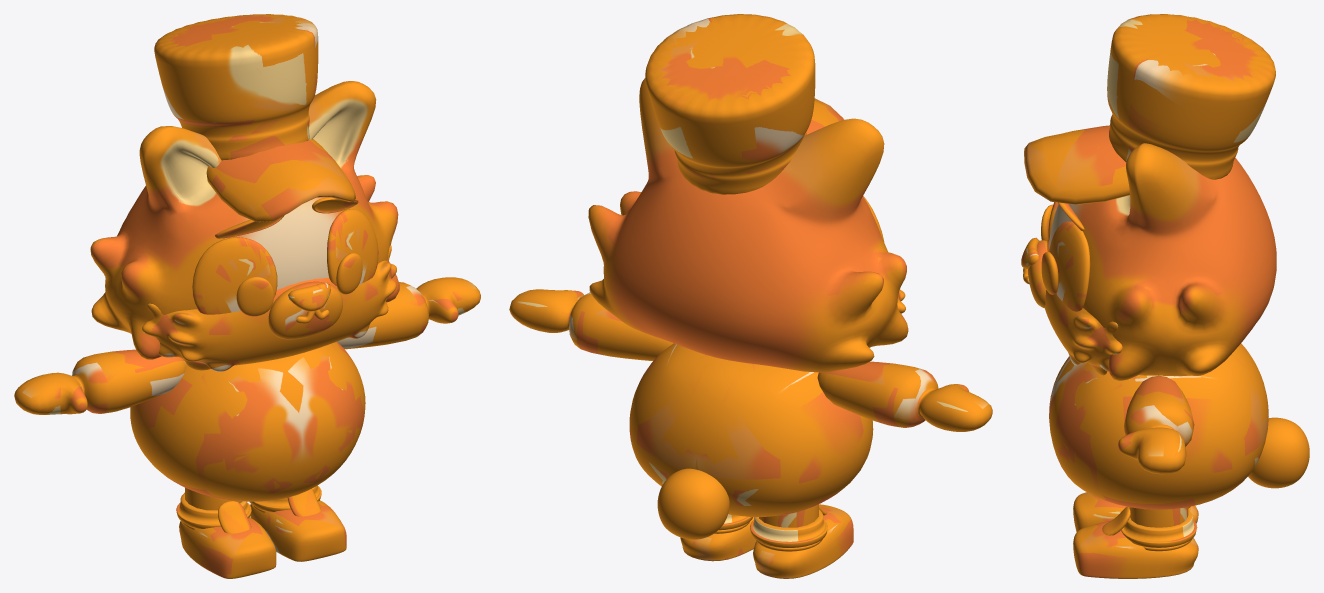
Rendered from CatTest.fbx.
3 renders of one model, left to right at view 1: azimuth 30°, elevation 25°; view 2: azimuth 150°, elevation 25°; view 3: azimuth 270°, elevation 25°, orthographic. The views are drawn at different scales.
Parts seen in each view (by area): view 1: Head, Body, Plane.006, Plane, Head.001, Cube, Plane.002, Body.001, Plane.003, Cylinder.001, Plane.005, Plane.004 (+1 smaller); view 2: Head, Body, Plane.006, Plane, Cube, Cube.001, Cylinder.001; view 3: Head, Plane.006, Body, Plane, Cube, Head.001, Cube.001, Plane.002, Cylinder.001, Plane.003, Body.001, Plane.005 (+1 smaller).
Boxes of the visible parts, x1=… form: Head: x1=90, y1=81, x2=399, y2=359; Body: x1=130, y1=341, x2=365, y2=501; Plane.006: x1=154, y1=14, x2=355, y2=222; Plane: x1=14, y1=277, x2=480, y2=510; Head.001: x1=142, y1=245, x2=396, y2=371; Cube: x1=179, y1=500, x2=346, y2=578; Plane.002: x1=192, y1=209, x2=378, y2=314; Body.001: x1=268, y1=281, x2=342, y2=339; Plane.003: x1=236, y1=253, x2=362, y2=316; Cylinder.001: x1=176, y1=485, x2=321, y2=529; Plane.005: x1=218, y1=488, x2=320, y2=533; Plane.004: x1=215, y1=197, x2=358, y2=238; Head: x1=588, y1=78, x2=908, y2=372; Body: x1=629, y1=343, x2=873, y2=516; Plane.006: x1=645, y1=14, x2=843, y2=194; Plane: x1=509, y1=289, x2=992, y2=527; Cube: x1=680, y1=504, x2=853, y2=578; Cube.001: x1=657, y1=468, x2=729, y2=539; Cylinder.001: x1=714, y1=509, x2=827, y2=551; Head: x1=1049, y1=143, x2=1276, y2=380; Plane.006: x1=1024, y1=14, x2=1275, y2=204; Body: x1=1049, y1=343, x2=1268, y2=509; Plane: x1=1118, y1=375, x2=1194, y2=527; Cube: x1=1073, y1=492, x2=1198, y2=578; Head.001: x1=1045, y1=239, x2=1122, y2=375; Cube.001: x1=1248, y1=417, x2=1309, y2=488; Plane.002: x1=1048, y1=202, x2=1090, y2=311; Cylinder.001: x1=1121, y1=506, x2=1197, y2=551; Plane.003: x1=1041, y1=204, x2=1058, y2=294; Body.001: x1=1028, y1=240, x2=1047, y2=308; Plane.005: x1=1102, y1=506, x2=1130, y2=535.
Size of the model in its own units: 173 by 182 by 92.46.
15 materials, 15 textured.
